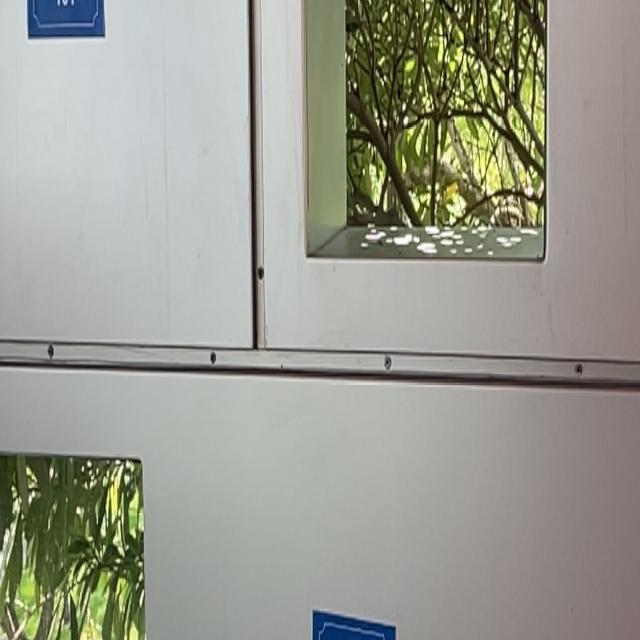Card: (20, 0, 109, 69), (308, 588, 399, 640)
